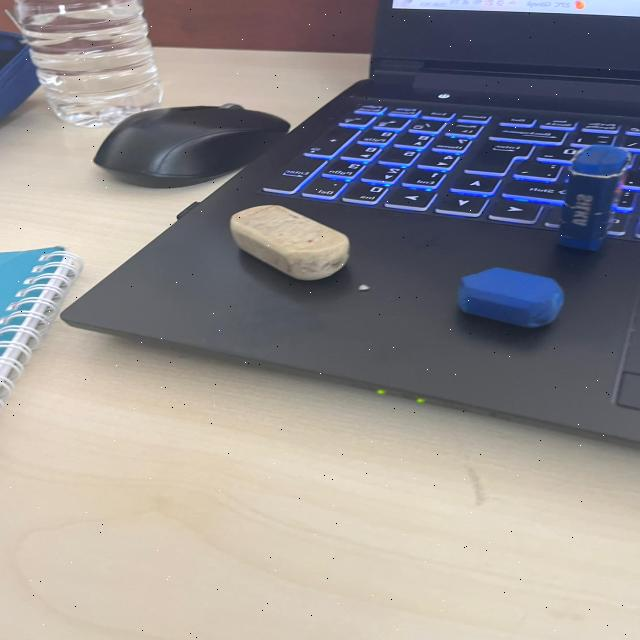eraser: (217, 200, 367, 289), (546, 137, 640, 257), (438, 265, 576, 337)
